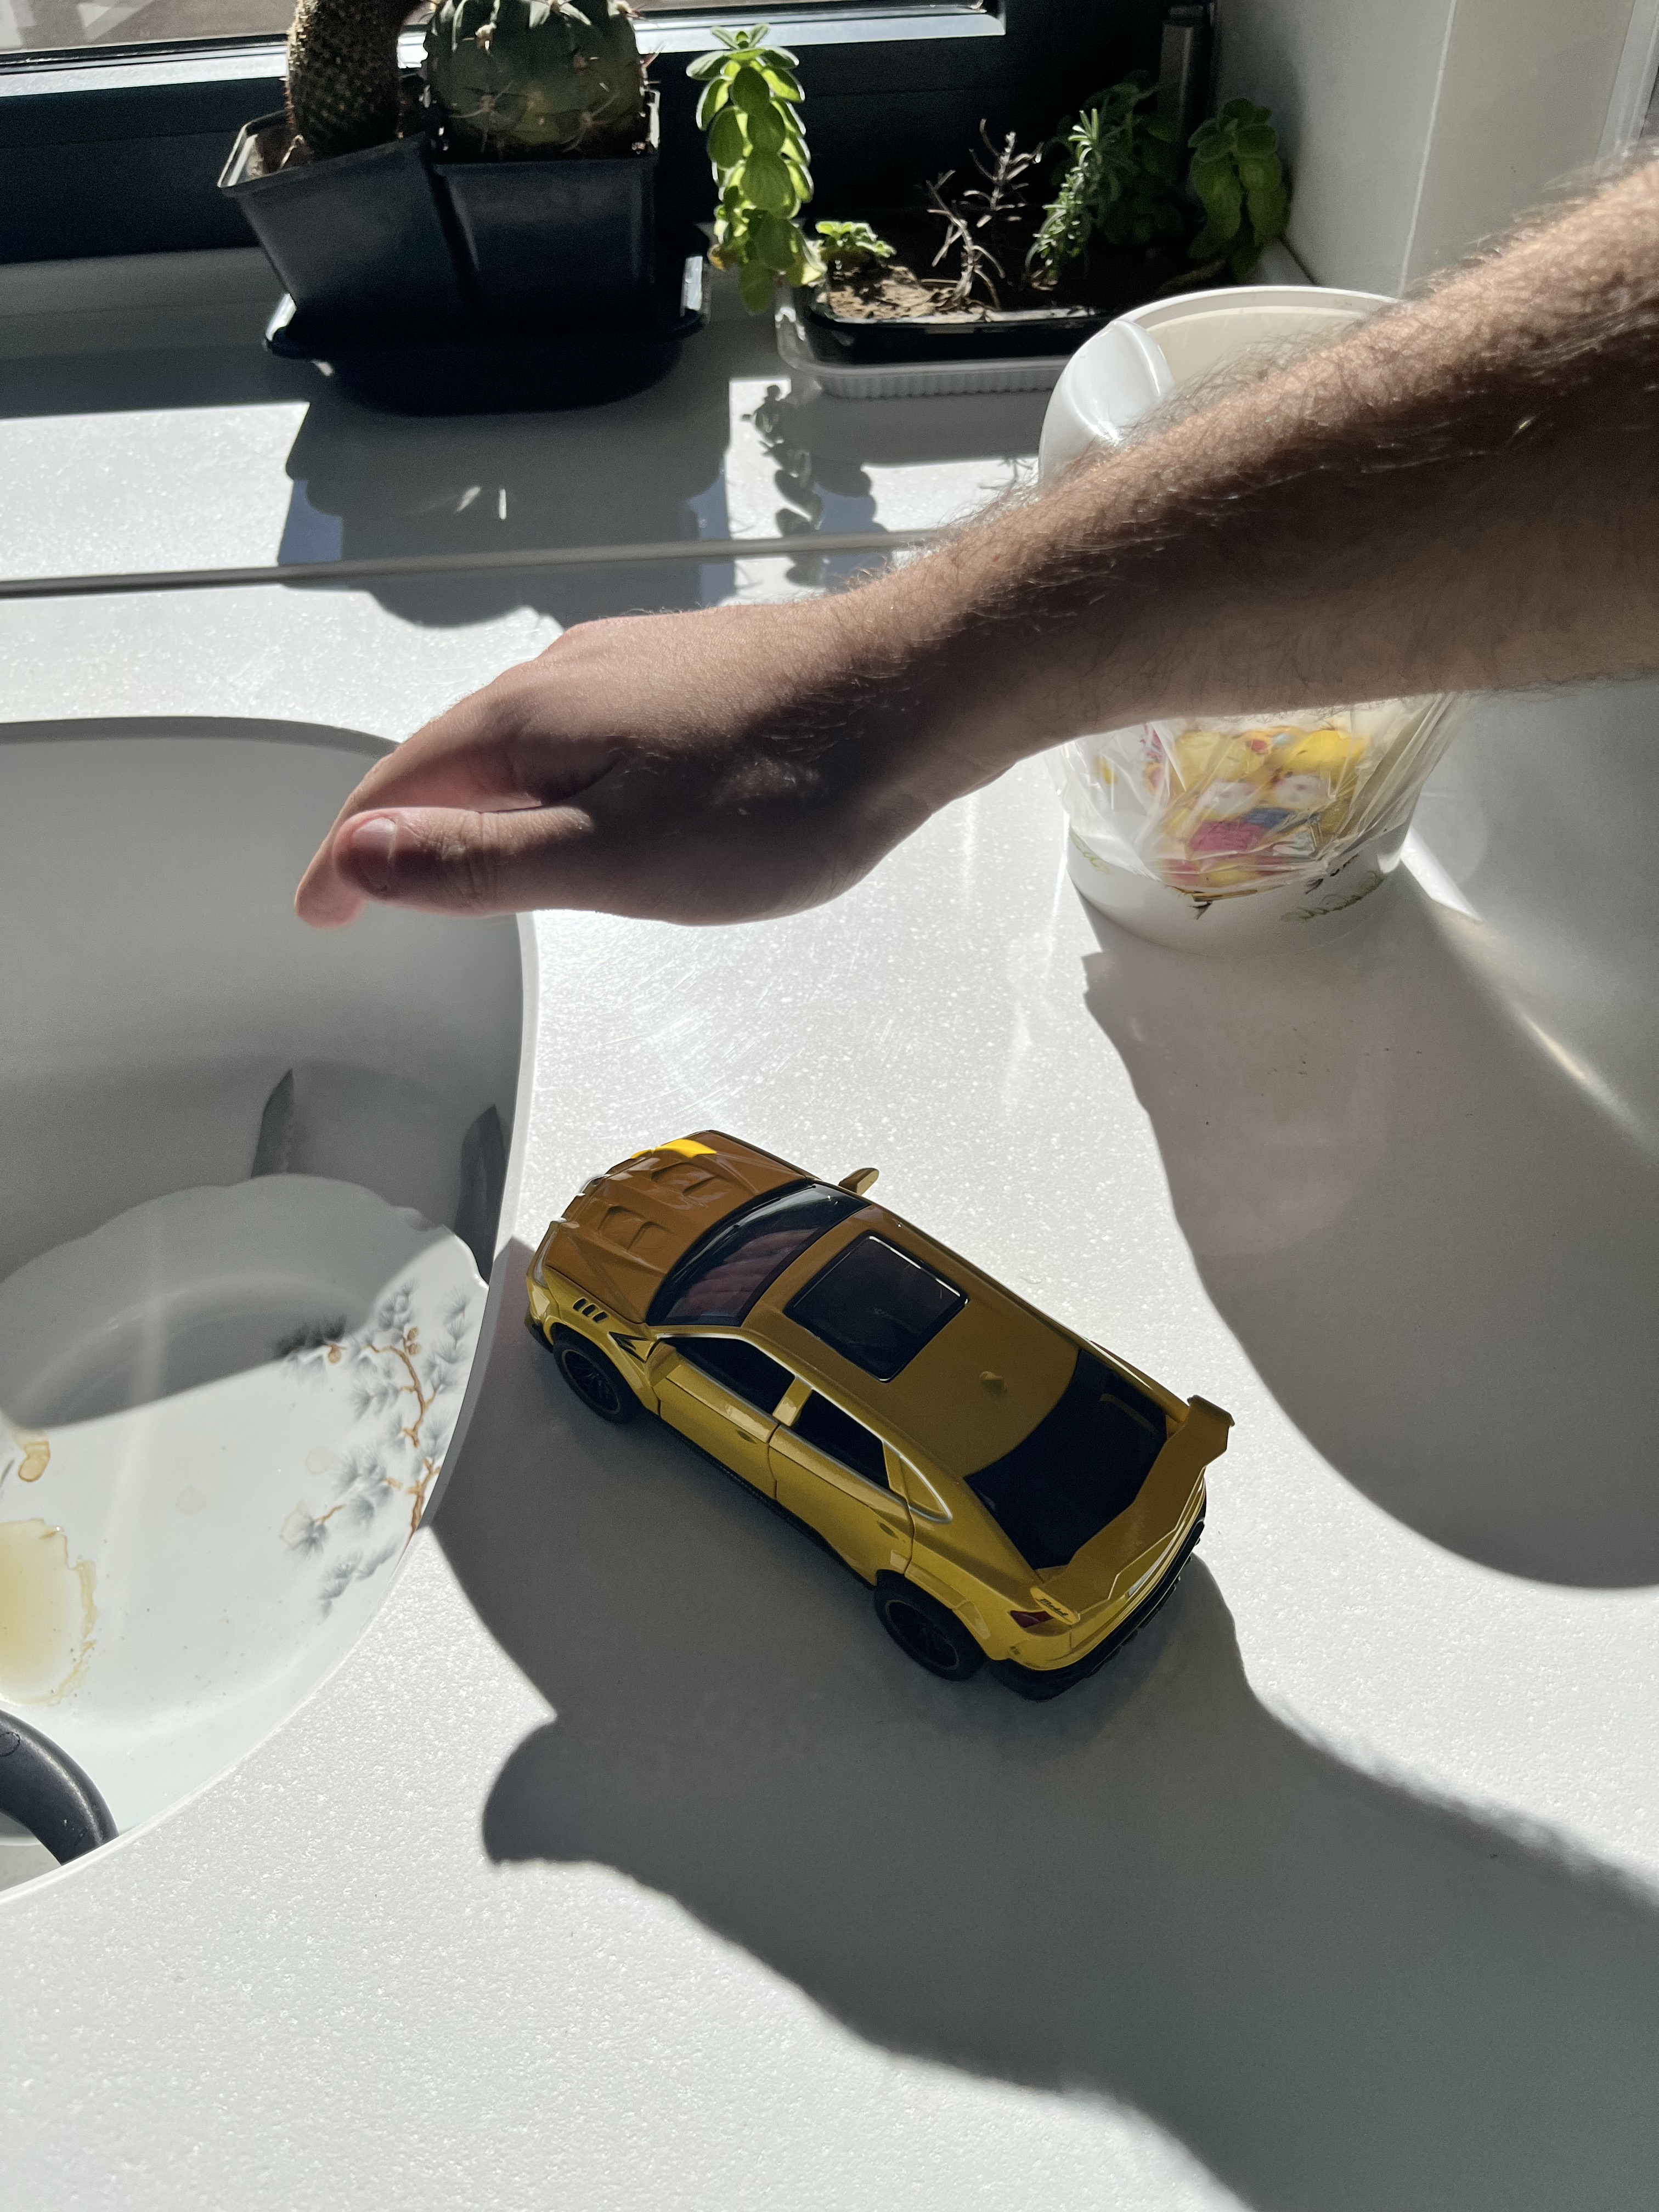lambo: (507, 1071, 1243, 1731)
